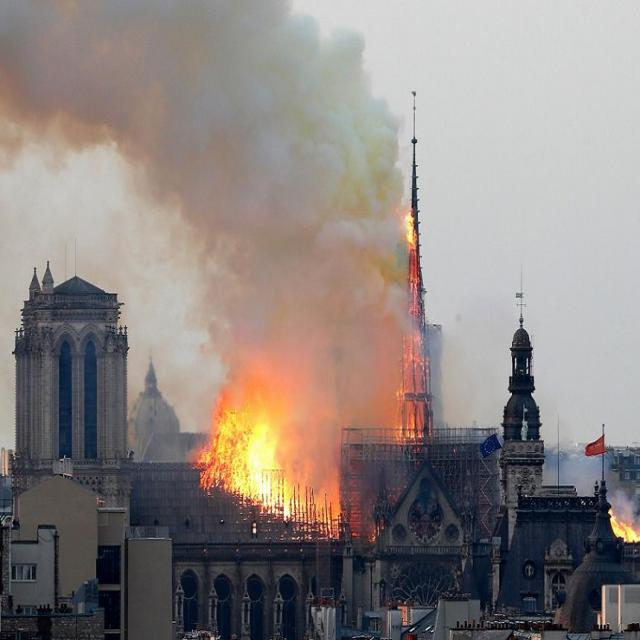fire: (195, 364, 321, 521)
